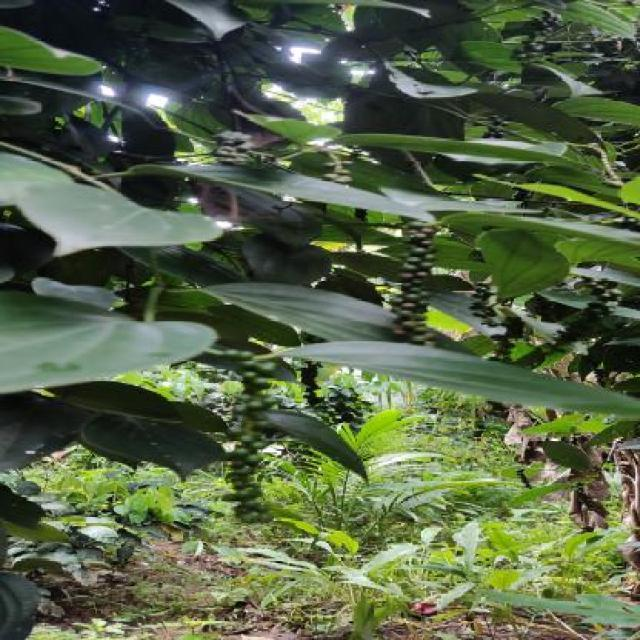UNRIPE: (218, 351, 277, 522), (390, 222, 436, 345), (556, 277, 622, 351), (468, 283, 520, 360), (511, 10, 555, 59), (294, 360, 325, 406), (214, 132, 249, 165), (480, 114, 508, 140)
